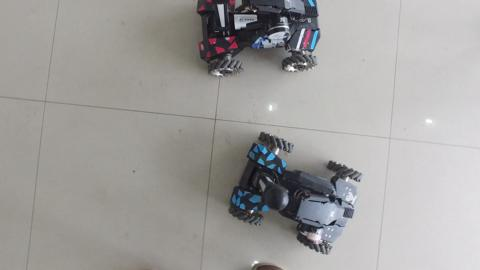chariot: (220, 127, 369, 260), (196, 1, 326, 80)
